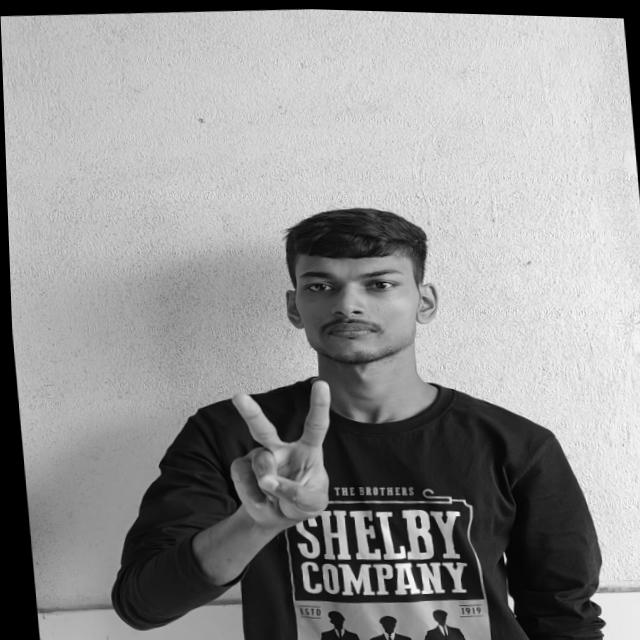Victory: (221, 375, 349, 530)
